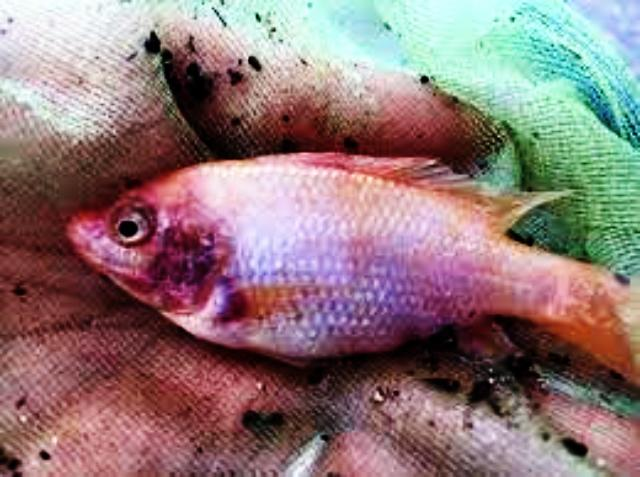Tilapia Lake Virus -TiLV-: (66, 154, 628, 376)
